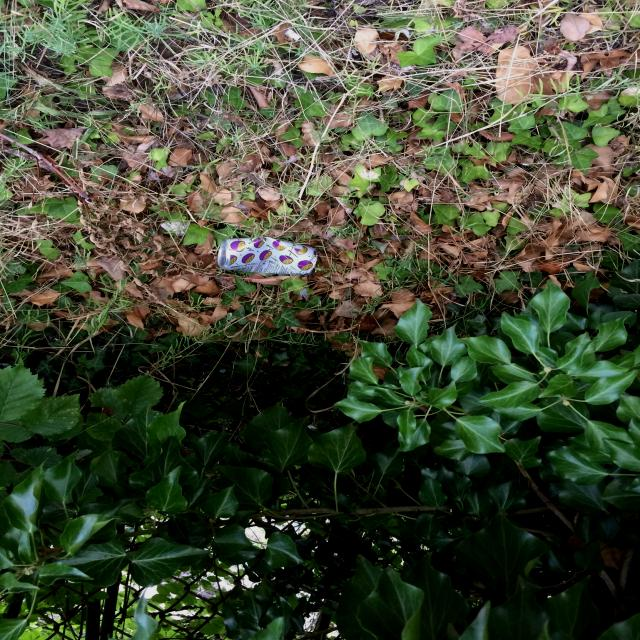Drink can: (217, 237, 317, 275)
